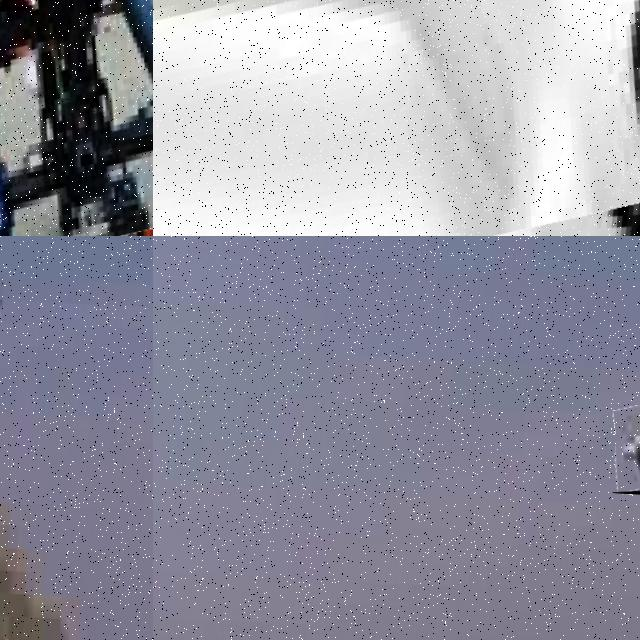drone: (153, 0, 640, 236), (0, 0, 153, 236), (612, 404, 640, 495)
